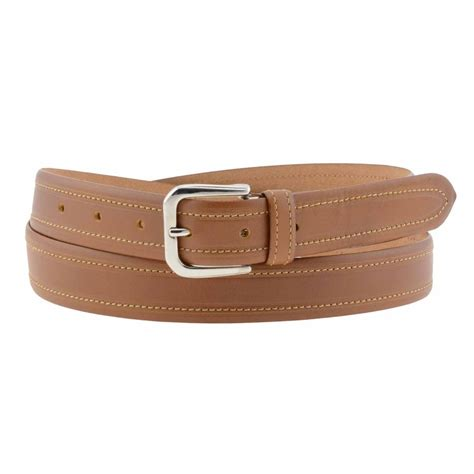cuero: (26, 162, 457, 326)
